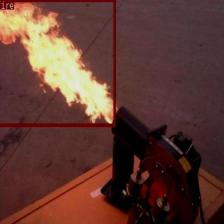fire: (0, 0, 115, 126)
